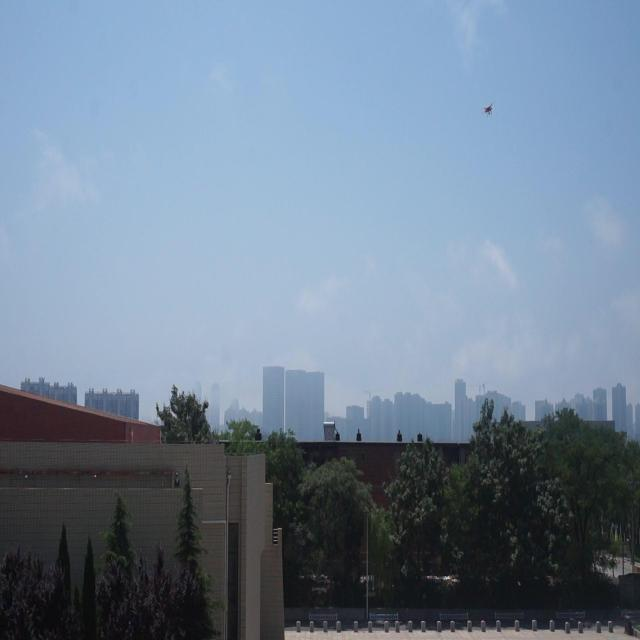drone: (484, 102, 494, 119)
